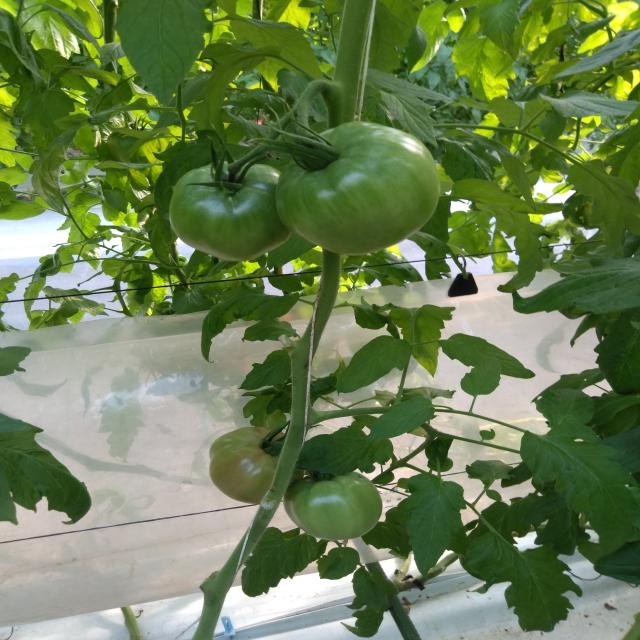yesil: (121, 65, 460, 266), (205, 409, 394, 548)
